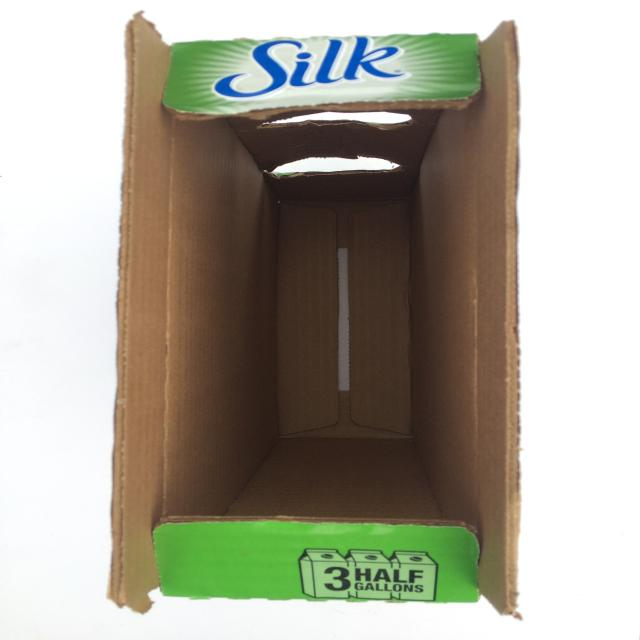cardboard: (108, 10, 523, 618)
